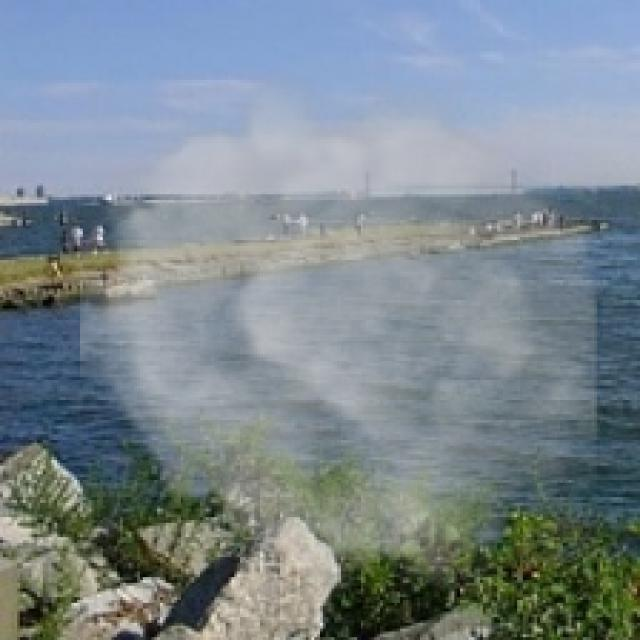Smoke: (80, 69, 597, 608)
